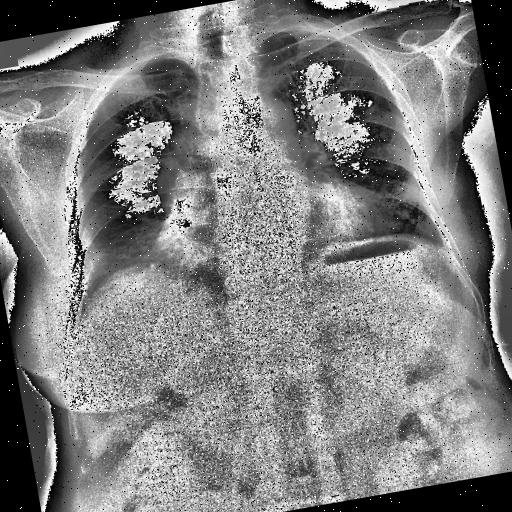0- Aortic enlargement: (150, 87, 306, 203), (228, 91, 300, 155), (235, 92, 302, 160)
3- Cardiomegaly: (148, 182, 378, 277), (151, 187, 380, 280), (143, 192, 385, 270)
7- Lung Opacity: (152, 129, 212, 210)
